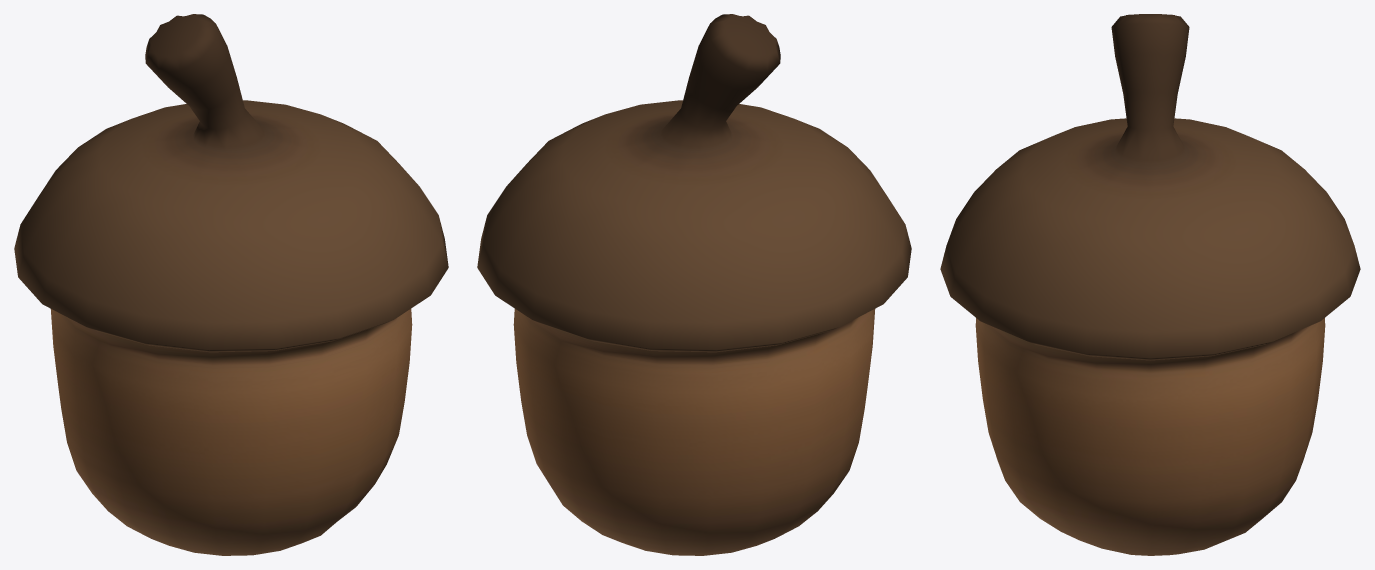
File: bellota.fbx
3 views of the same model, side by side, from view 1: azimuth 30°, elevation 25°; view 2: azimuth 150°, elevation 25°; view 3: azimuth 270°, elevation 25° (orthographic). The views are drawn at different scales.
Parts seen in each view (by area): view 1: pSphere1; view 2: pSphere1; view 3: pSphere1.
Part boxes in pixels (box(x1,y1,x2,y2)): pSphere1: box(14, 14, 448, 555); pSphere1: box(477, 14, 911, 555); pSphere1: box(940, 14, 1360, 555).
Bounding box in the file's own units: 2.02 × 2.71 × 2.02.
